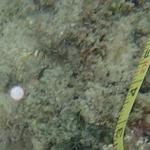dead: (1, 4, 148, 148)
